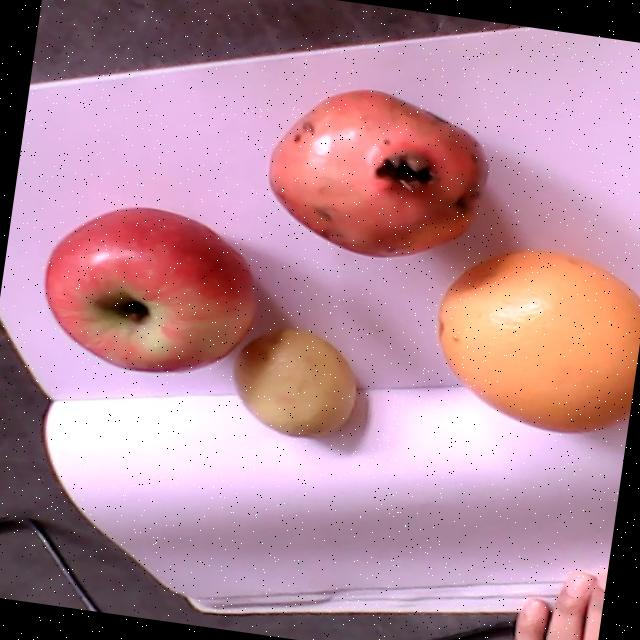apple: (45, 208, 256, 373)
lemon: (233, 320, 355, 439)
orange: (437, 250, 640, 431)
pomegranate: (267, 89, 490, 255)
